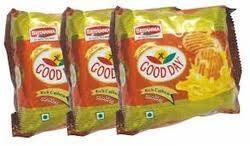VEG: (40, 114, 50, 122), (96, 112, 105, 120), (145, 111, 154, 119)
